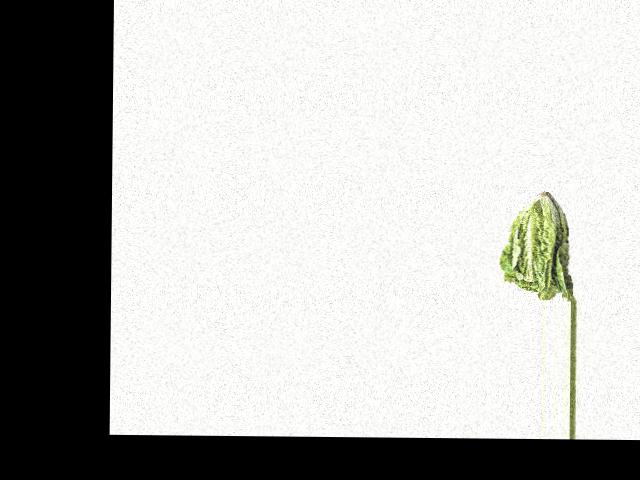lettuce: (495, 193, 574, 300)
